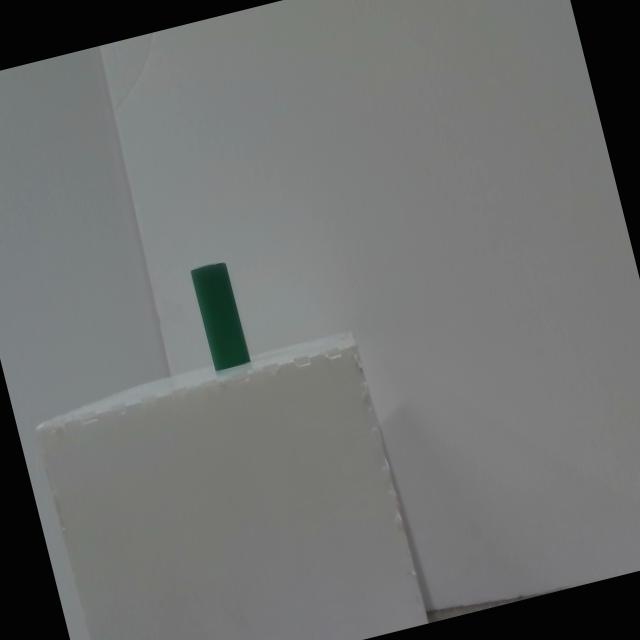green_cylinder: (190, 261, 250, 371)
